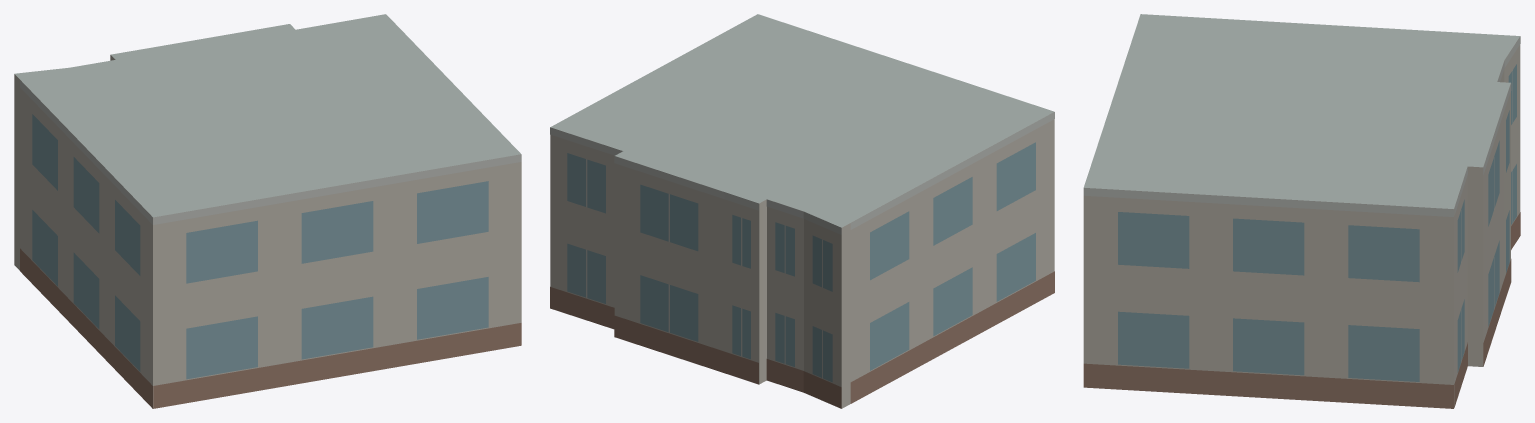
File: survey-upis-32674786.glb
The picture shows the model from 3 angles, left to right: view 1: azimuth 30°, elevation 25°; view 2: azimuth 150°, elevation 25°; view 3: azimuth 270°, elevation 25°; orthographic projection. The views are drawn at different scales.
Visible parts, largest first — view 1: survey-upis-32674786.tmp; view 2: survey-upis-32674786.tmp; view 3: survey-upis-32674786.tmp.
Part boxes in pixels (left/top/right/bottom): survey-upis-32674786.tmp: left=14, top=14, right=521, bottom=408; survey-upis-32674786.tmp: left=550, top=14, right=1054, bottom=408; survey-upis-32674786.tmp: left=1083, top=14, right=1520, bottom=408.
Bounding box in the file's own units: 12.79 × 6.1 × 12.1.
